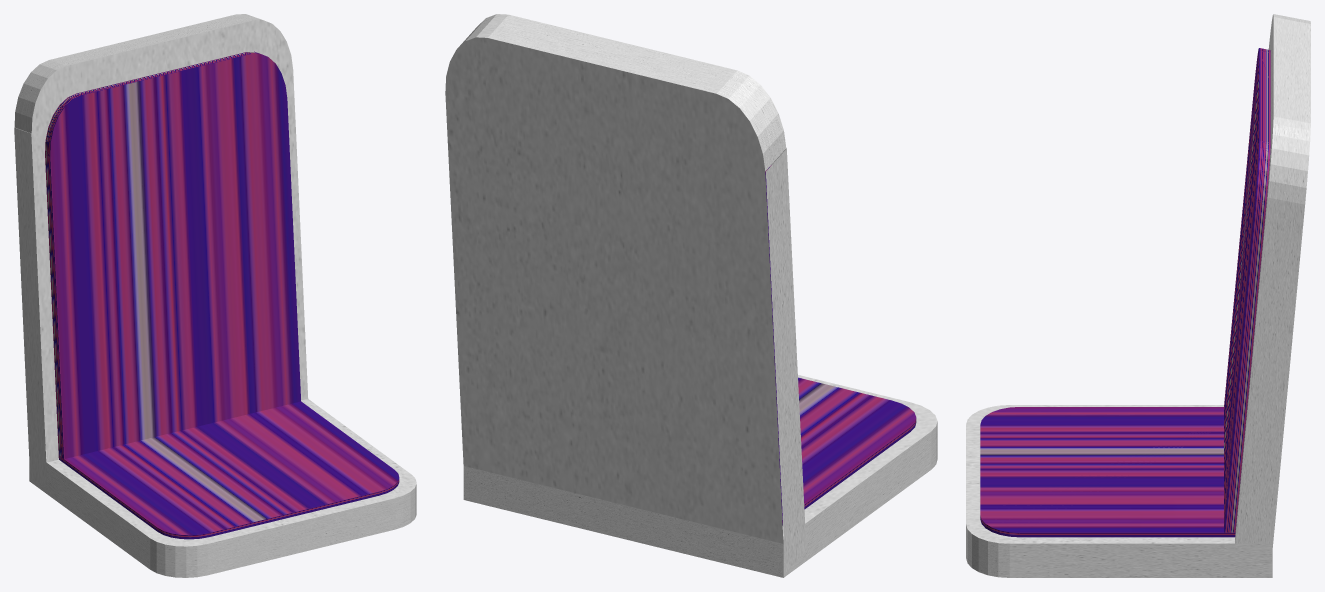
File: ChairAlone.fbx
3 renders of one model, left to right at view 1: azimuth 30°, elevation 25°; view 2: azimuth 150°, elevation 25°; view 3: azimuth 270°, elevation 25°, orthographic. The views are drawn at different scales.
Visible parts, largest first — view 1: top, bottom; view 2: top, bottom; view 3: bottom, top.
Part boxes in pixels (x1=…): top: x1=14, y1=14, x2=308, y2=484; bottom: x1=29, y1=399, x2=416, y2=577; top: x1=445, y1=14, x2=806, y2=572; bottom: x1=463, y1=375, x2=937, y2=577; bottom: x1=966, y1=405, x2=1272, y2=577; top: x1=1224, y1=14, x2=1310, y2=547.
Size of the model in its own units: 61.87 by 91.66 by 64.84.
Materials: 2 (2 with a texture image).
